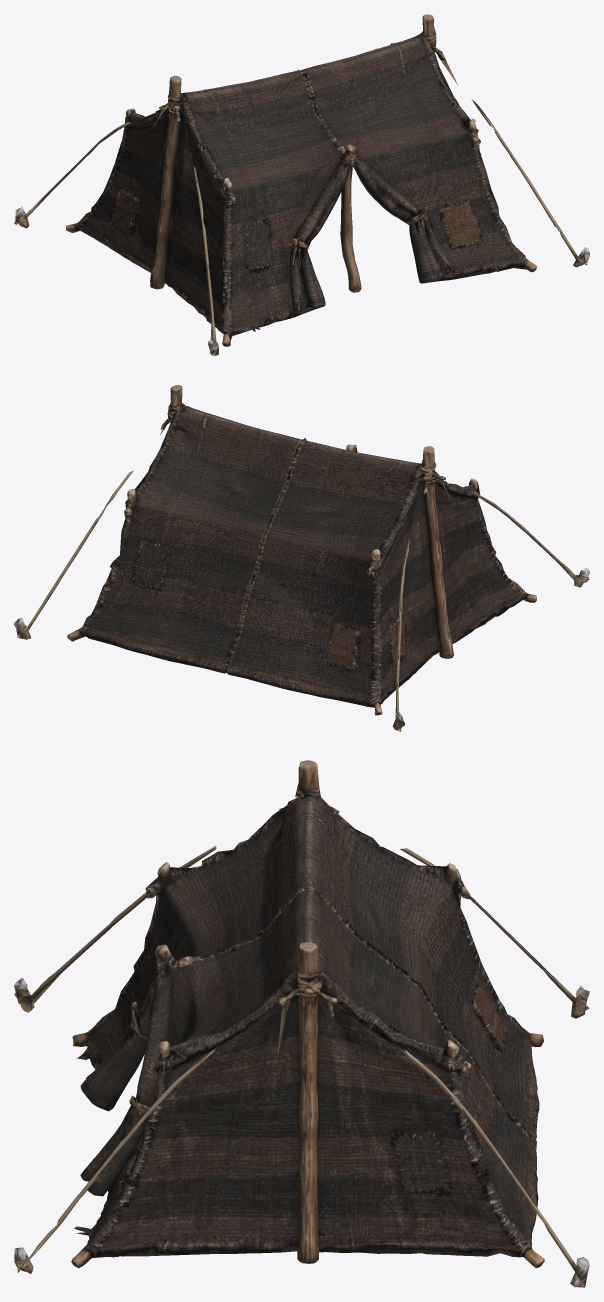
Rendered from camp_tent_game.glb.
3 views of the same model, one above another, from view 1: azimuth 30°, elevation 25°; view 2: azimuth 150°, elevation 25°; view 3: azimuth 270°, elevation 25° (orthographic). The views are drawn at different scales.
Parts seen in each view (by area): view 1: tripo_node_fd10a95f-ba45-486a-b88b-dd8d4bc6eeb7; view 2: tripo_node_fd10a95f-ba45-486a-b88b-dd8d4bc6eeb7; view 3: tripo_node_fd10a95f-ba45-486a-b88b-dd8d4bc6eeb7.
Part boxes in pixels (left/top/right/bottom): tripo_node_fd10a95f-ba45-486a-b88b-dd8d4bc6eeb7: left=14, top=14, right=589, bottom=356; tripo_node_fd10a95f-ba45-486a-b88b-dd8d4bc6eeb7: left=14, top=385, right=589, bottom=731; tripo_node_fd10a95f-ba45-486a-b88b-dd8d4bc6eeb7: left=14, top=760, right=589, bottom=1287.
Size of the model in its own units: 0.9768 by 0.489 by 0.8436.
1 material, 1 textured.
